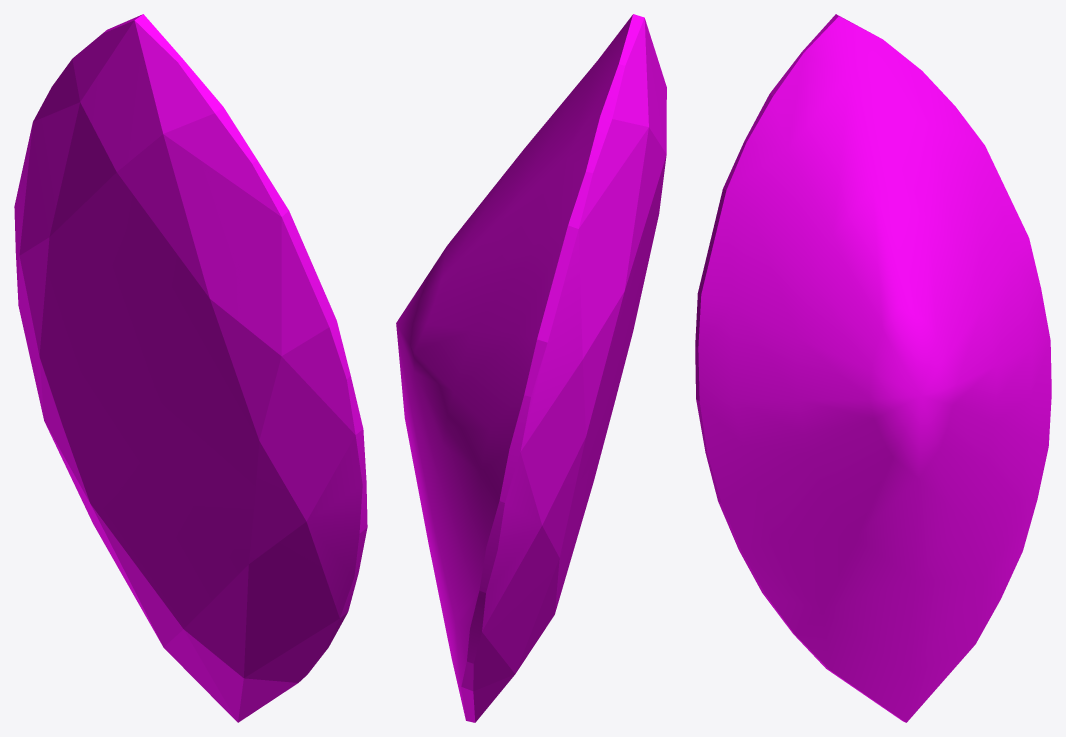
Rendered from TL5_8shapes_Marquise_Classic_Stone.001 3.glb.
3 views of the same model, side by side, from view 1: azimuth 30°, elevation 25°; view 2: azimuth 150°, elevation 25°; view 3: azimuth 270°, elevation 25° (orthographic). The views are drawn at different scales.
Parts seen in each view (by area): view 1: TL5_8shapes_Marquise_Classic_Stone.001; view 2: TL5_8shapes_Marquise_Classic_Stone.001; view 3: TL5_8shapes_Marquise_Classic_Stone.001.
Boxes of the visible parts, x1,y1,x2,y2 form: TL5_8shapes_Marquise_Classic_Stone.001: [14, 14, 367, 722]; TL5_8shapes_Marquise_Classic_Stone.001: [396, 14, 666, 722]; TL5_8shapes_Marquise_Classic_Stone.001: [695, 14, 1051, 722].
Size of the model in its own units: 0.2048 by 0.6033 by 0.2998.
